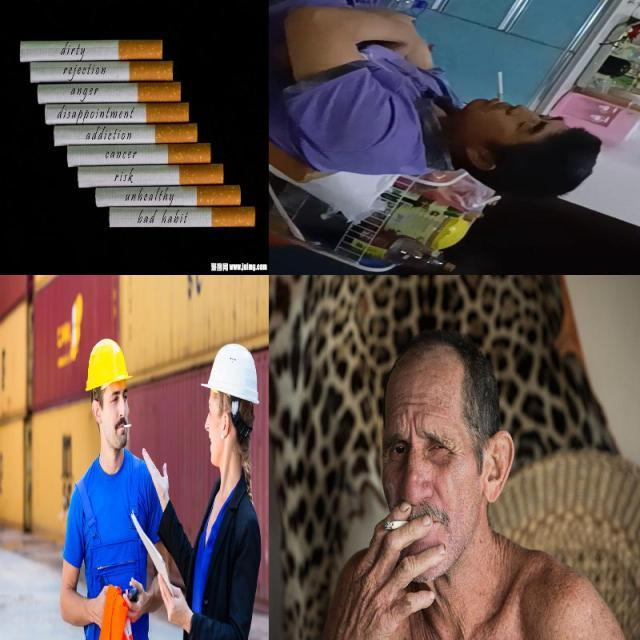smoking: (66, 142, 212, 168), (44, 102, 190, 126), (78, 164, 224, 188), (54, 123, 198, 147), (95, 185, 242, 208), (37, 82, 181, 105), (19, 41, 162, 64), (109, 206, 256, 228), (29, 62, 173, 83), (383, 517, 413, 532), (497, 71, 504, 102), (122, 424, 132, 429)
